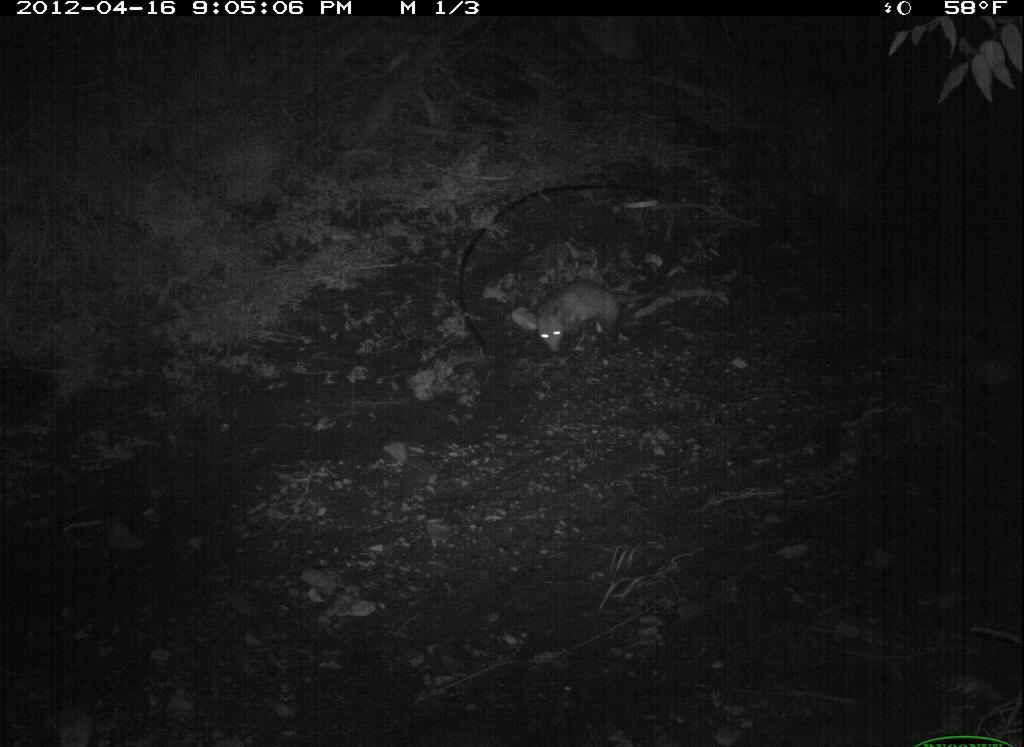opossum: (514, 274, 644, 376)
